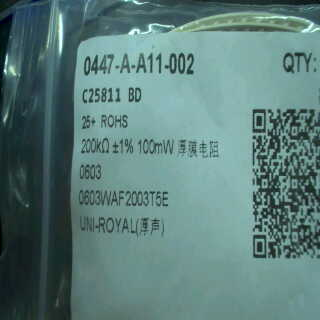200kR: (76, 133, 112, 159)
